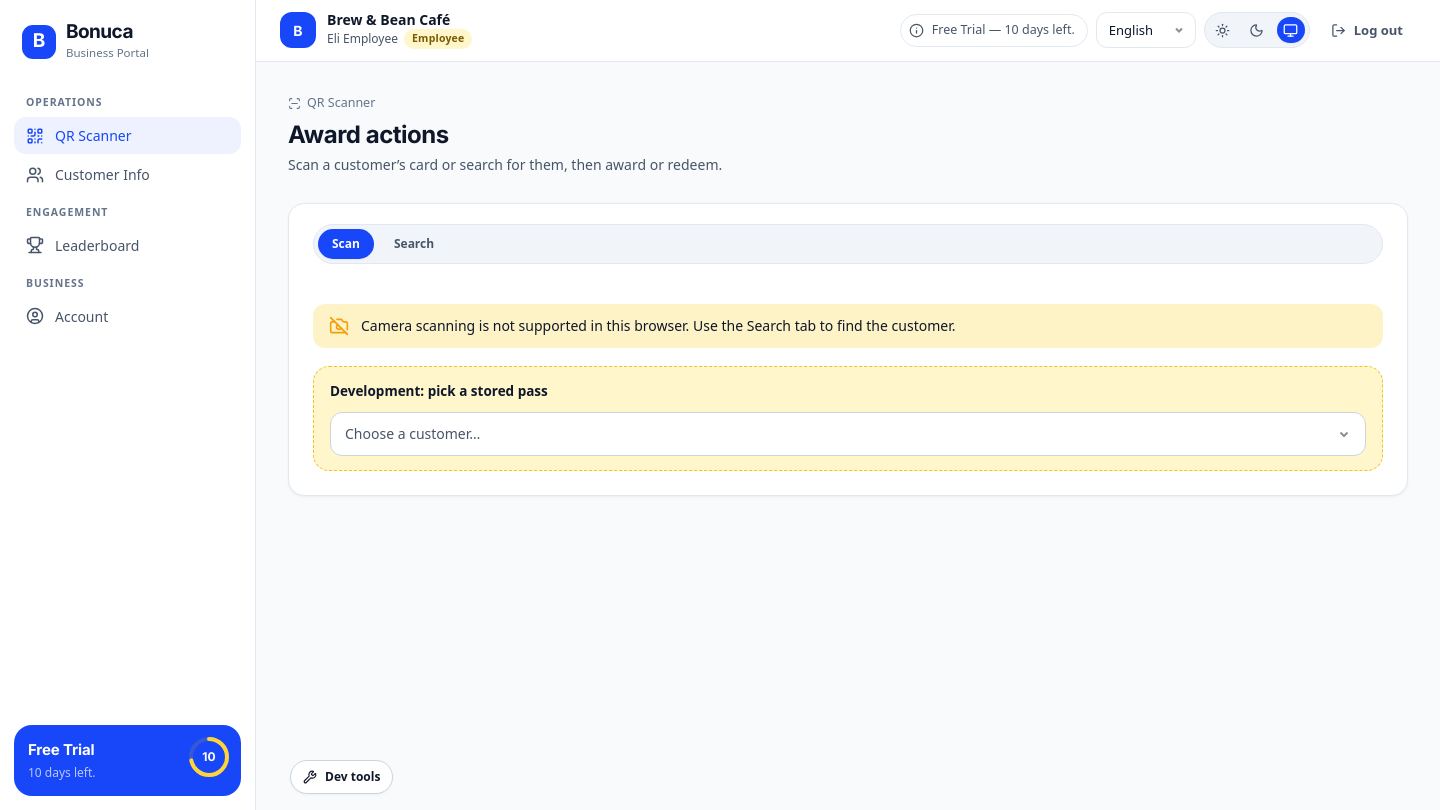
Test case: Award actions (QR Scanner, spec §4.4) › employee: +1 stamp only (no -1, no amount); Redeem bonus stays greyed until the card is full
Expected: the heading "Award actions" is shown, [288, 120, 449, 150]
Click the tab "Search": (414, 244) [380, 229, 448, 259]
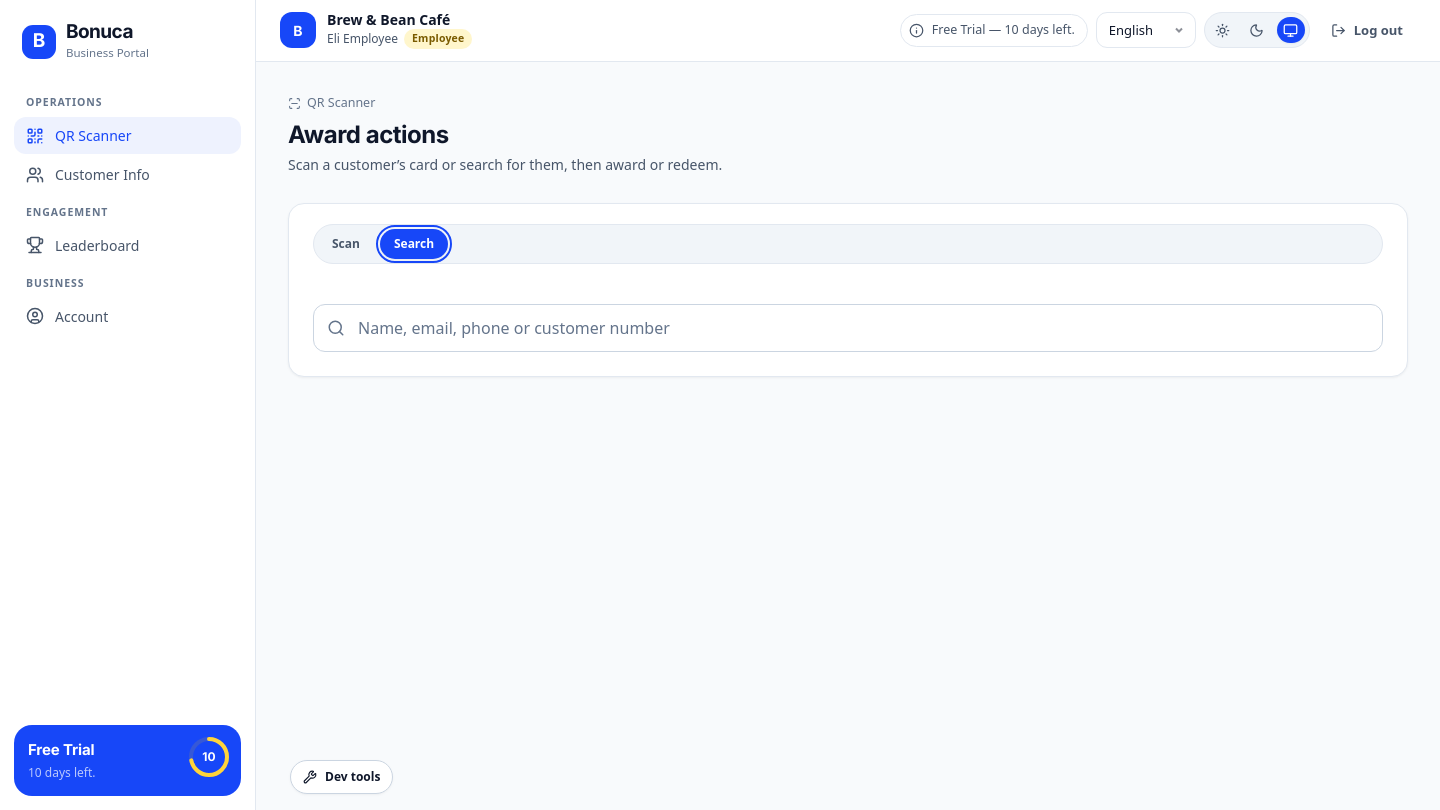
In the field named "Search customers": (848, 328) [313, 304, 1383, 352], type "C-10001"
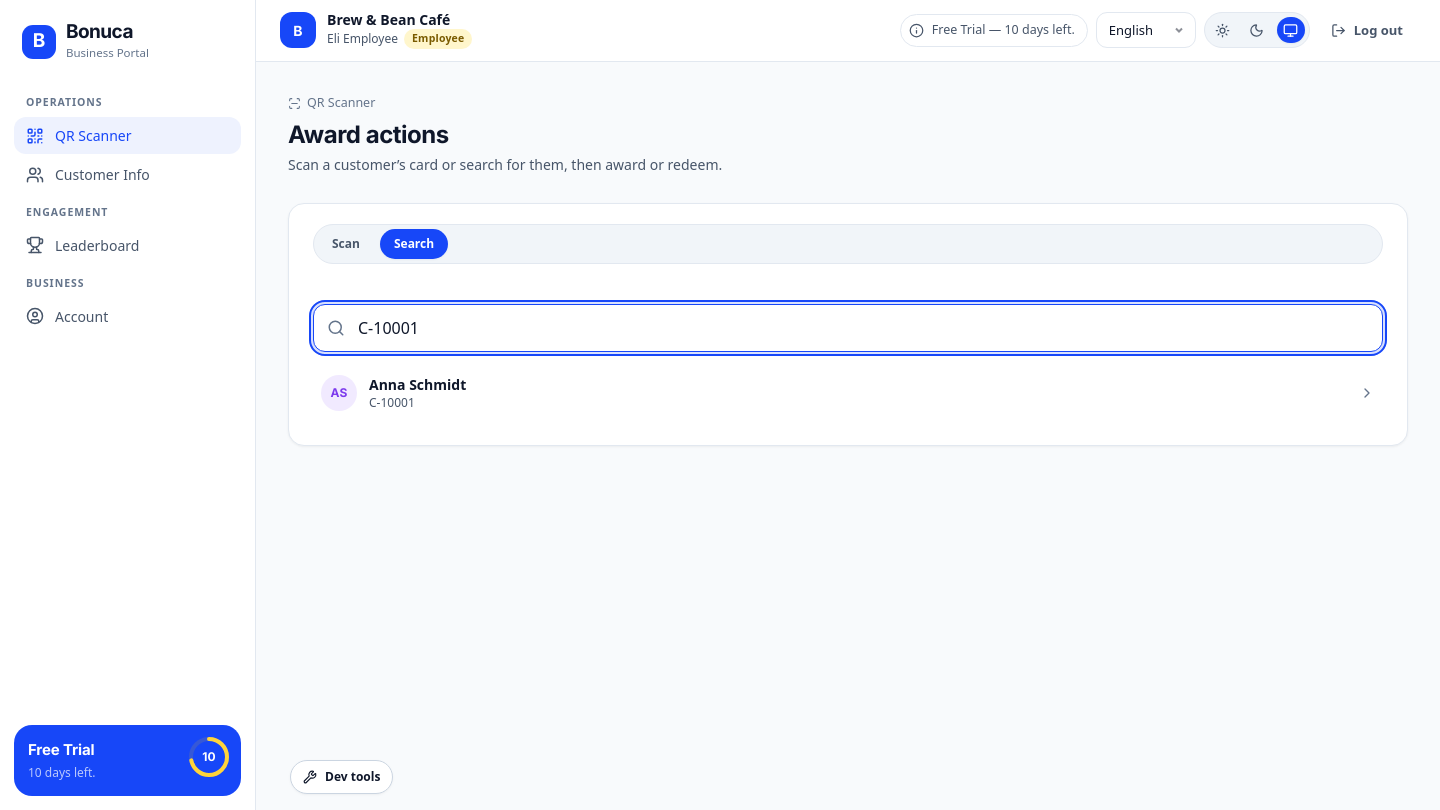
Click the button "Anna Schmidt C-10001": (339, 393) [313, 364, 1383, 421]
(page scrolled)
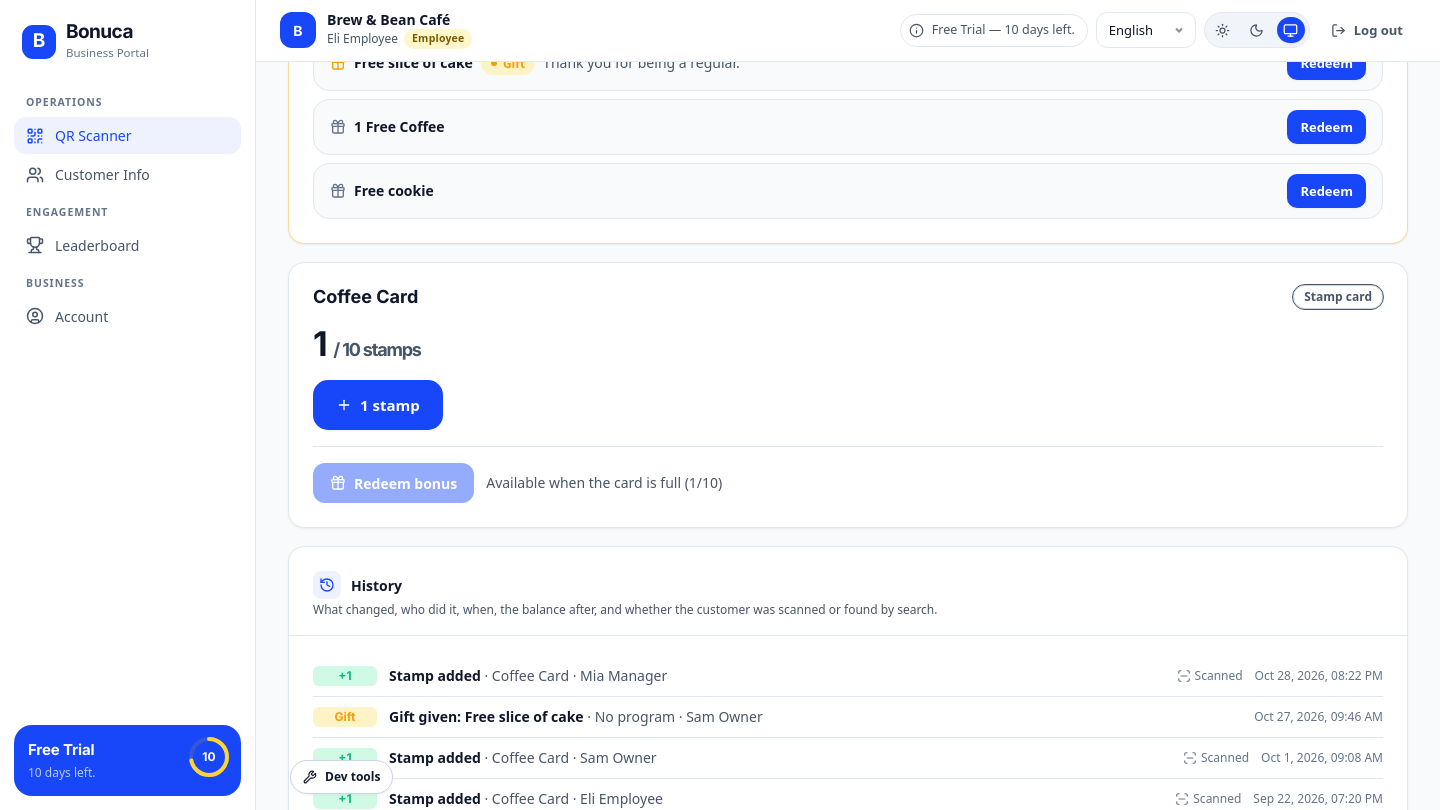
Now the button "Redeem bonus" is disabled, box [313, 463, 474, 503]
Click the button "1 stamp": (378, 405) [313, 380, 443, 430]
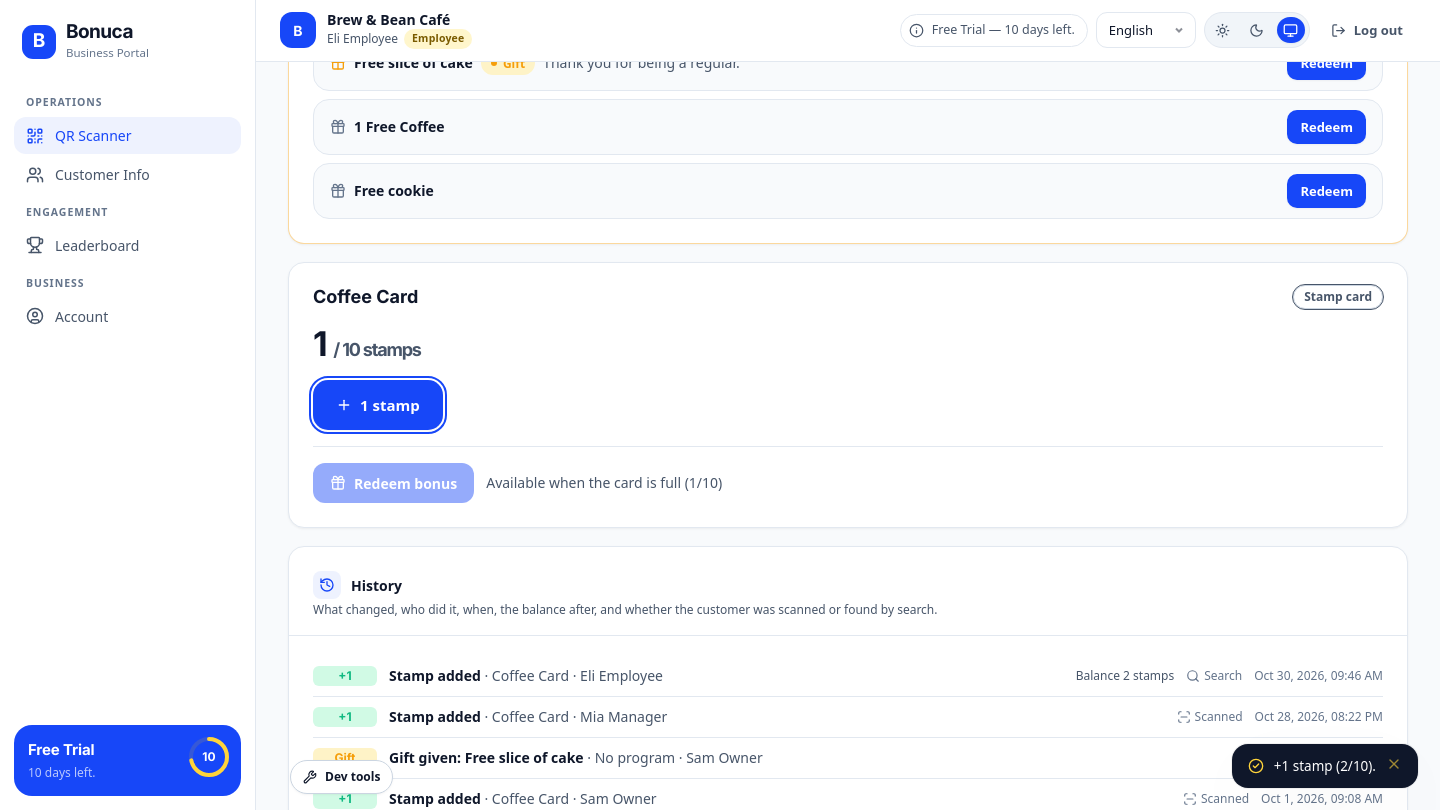
Now the text "+1 stamp (2/10)." is shown, box [1274, 756, 1376, 776]
Now the text "Search" is shown, box [1186, 668, 1242, 684]
